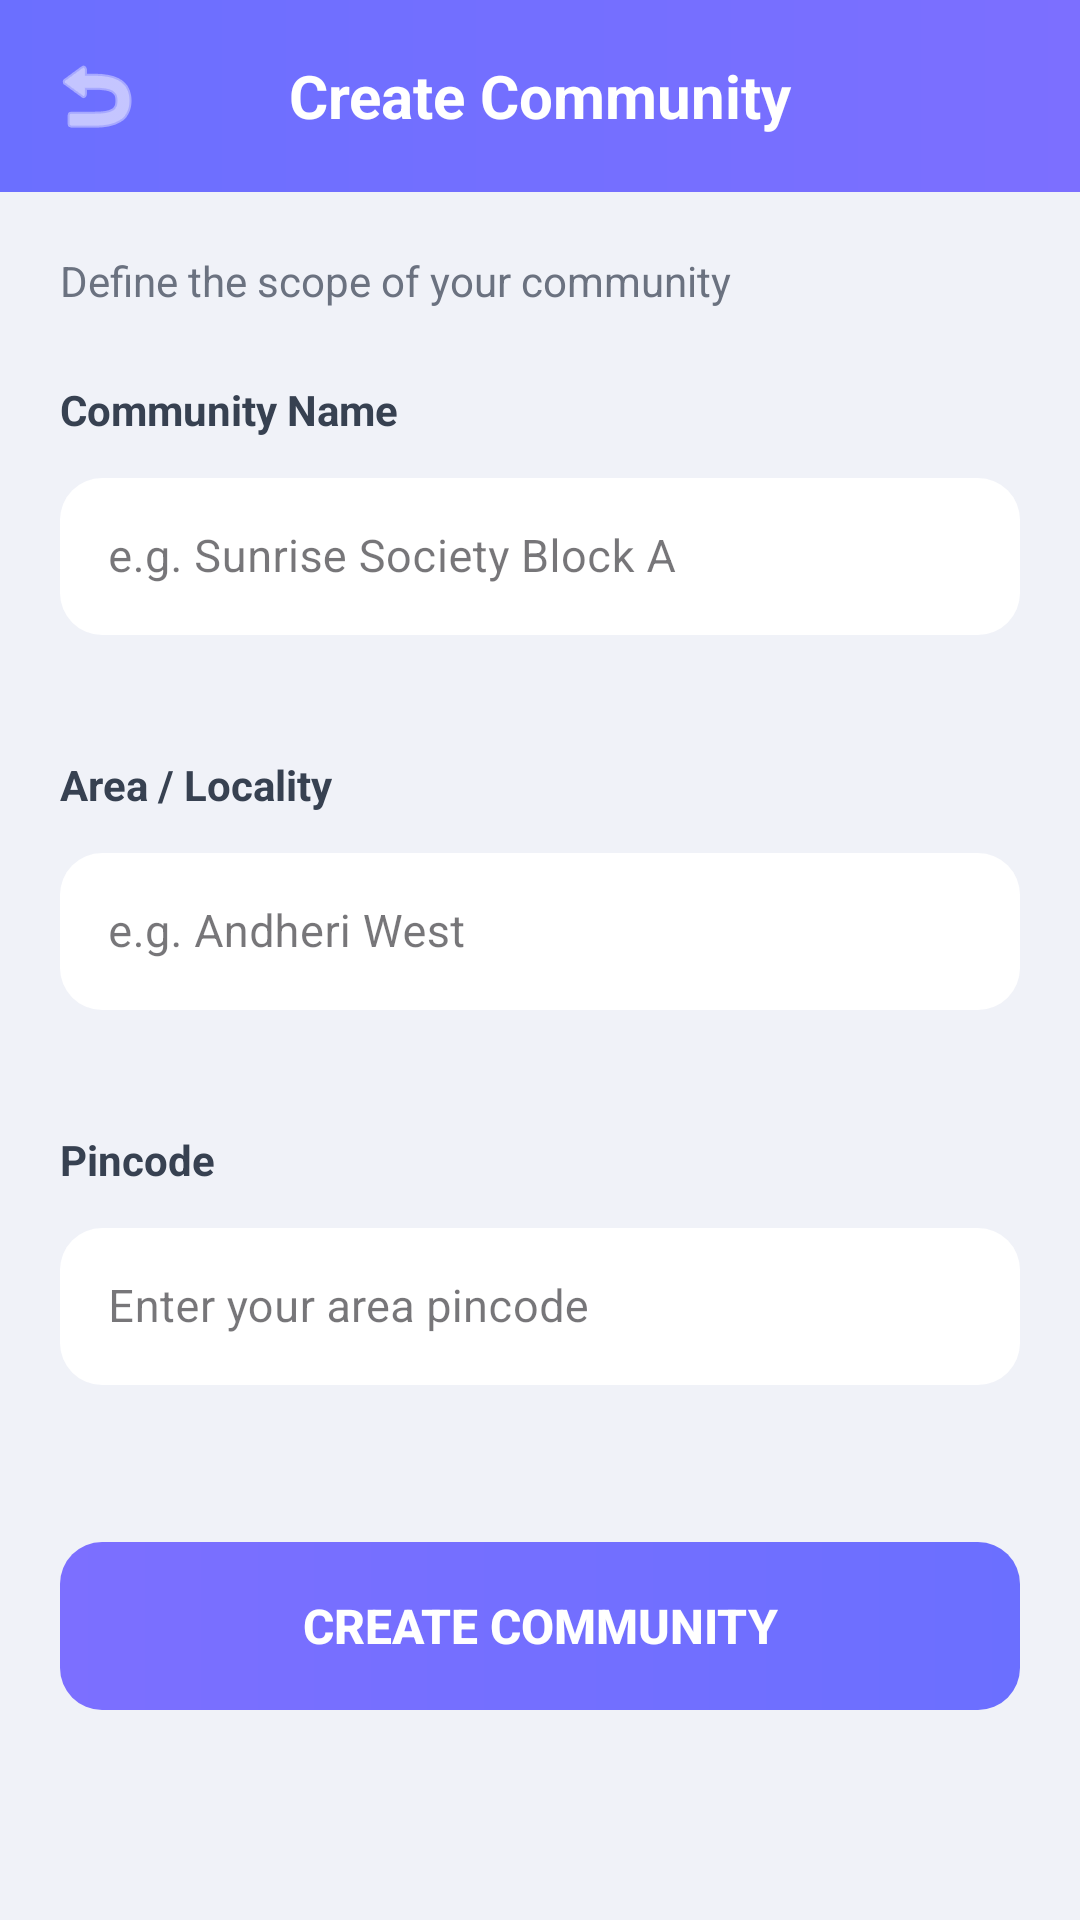

Screen size 1080px x 1920px. Icon name, then its box in pixels as (x1, y1, x2, y2):
Go back: (63, 66, 132, 128)
